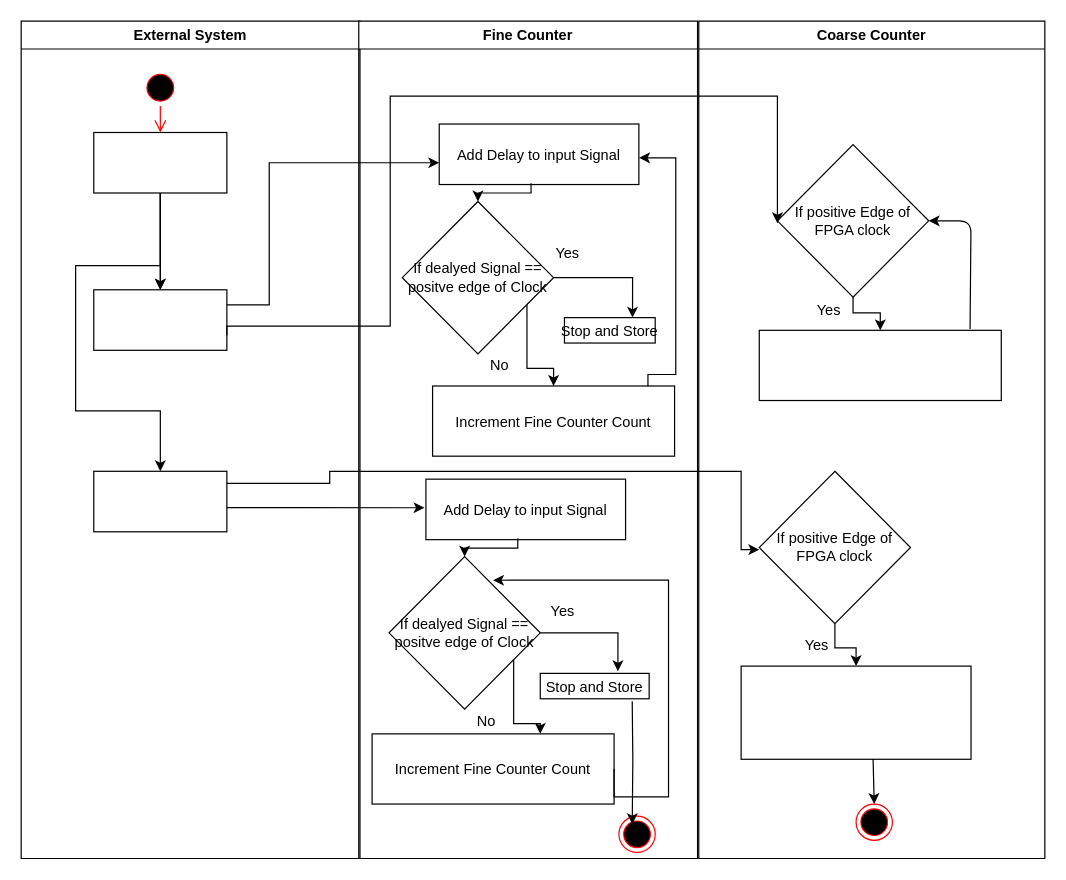
Some shapes in this 1066 by 880 pixel diagram are drawn without their labels. The shapes that lost their labels are listed below. From the top down, each one's centre as x and y in pixels, then its label:
At pixel 160 162: "Signals".
At pixel 160 319: "Start Signal".
At pixel 879 365: "Increment Course Counter Count".
At pixel 160 501: "Stop Signal".
At pixel 855 712: "Stop the counter. And Store the Coarse Counter Output".
